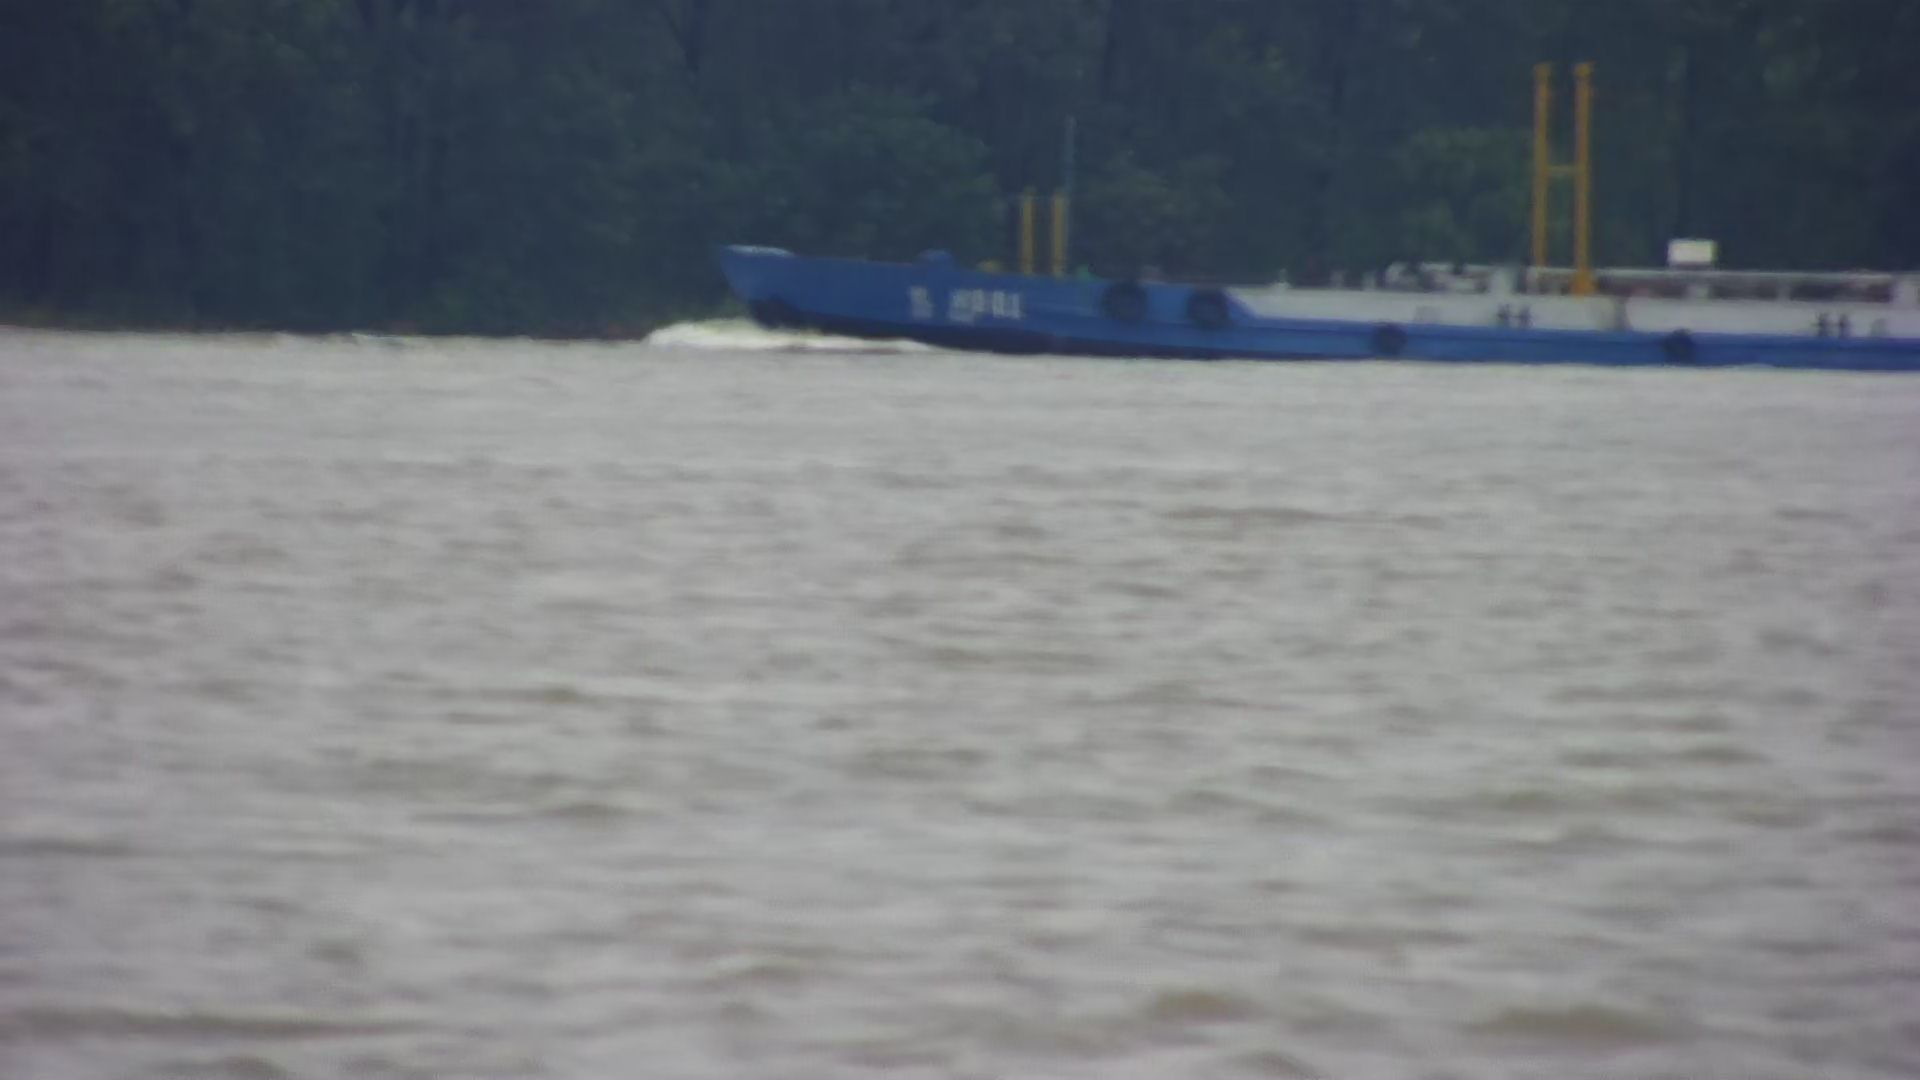ship: (709, 76, 1920, 371)
